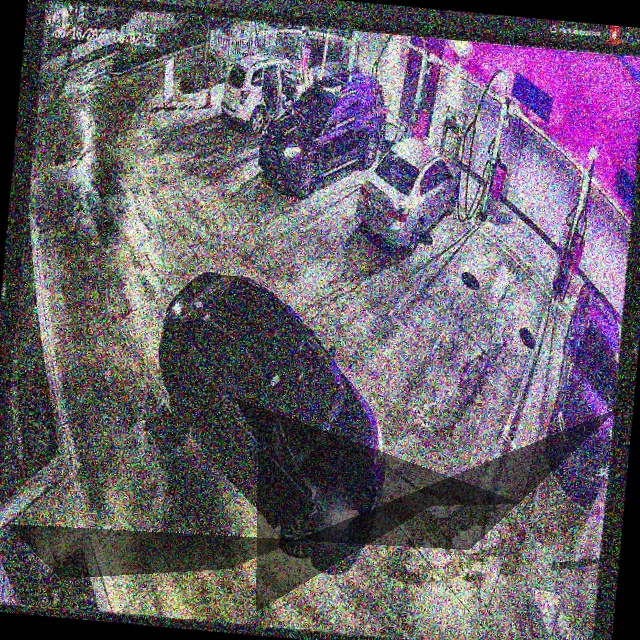Car: (138, 258, 402, 577), (261, 62, 389, 199), (353, 133, 462, 254)
